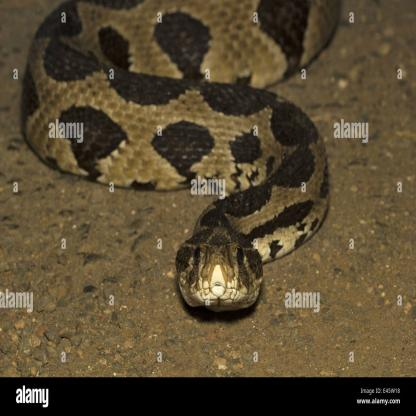Snake: (19, 0, 336, 309)
